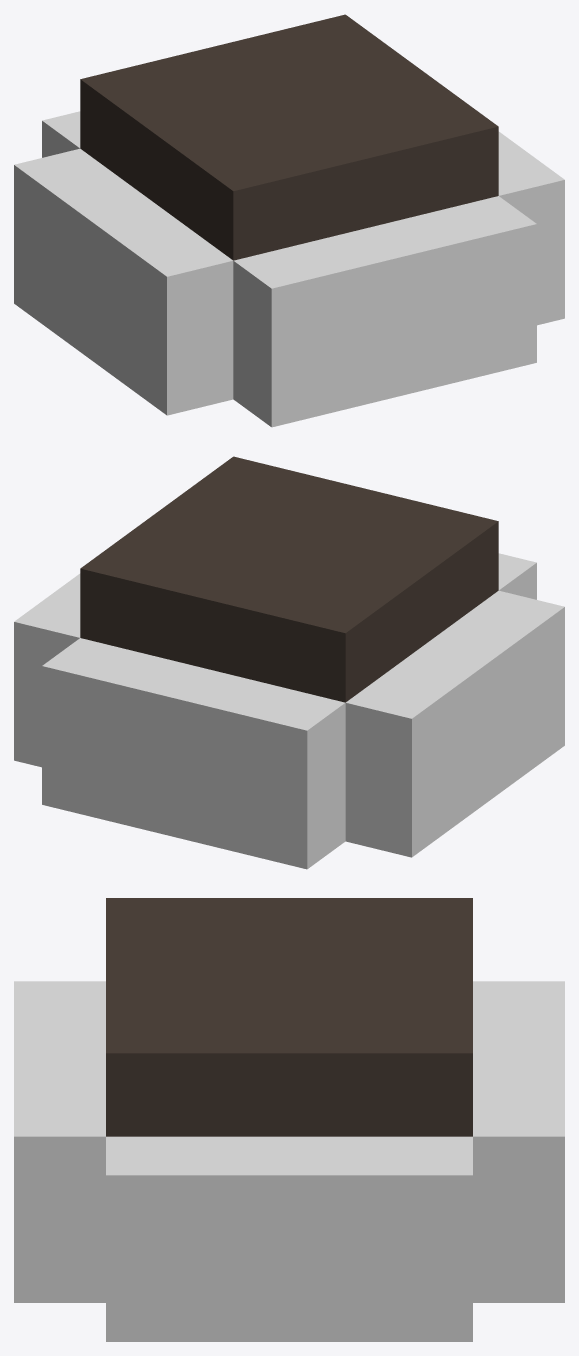
Rendered from char-227-helm_lgt_1a_ja_color.obj.
3 views of the same model, one above another, from view 1: azimuth 30°, elevation 25°; view 2: azimuth 150°, elevation 25°; view 3: azimuth 270°, elevation 25° (orthographic). The views are drawn at different scales.
Parts seen in each view (by area): view 1: helm_lgt_1a_ja_color; view 2: helm_lgt_1a_ja_color; view 3: helm_lgt_1a_ja_color.
Boxes of the visible parts, bbox=[...] form: helm_lgt_1a_ja_color: bbox=[14, 14, 564, 427]; helm_lgt_1a_ja_color: bbox=[14, 456, 564, 869]; helm_lgt_1a_ja_color: bbox=[14, 898, 564, 1341].
Size of the model in its own units: 0.6 by 0.3 by 0.6.
1 material, 1 textured.
